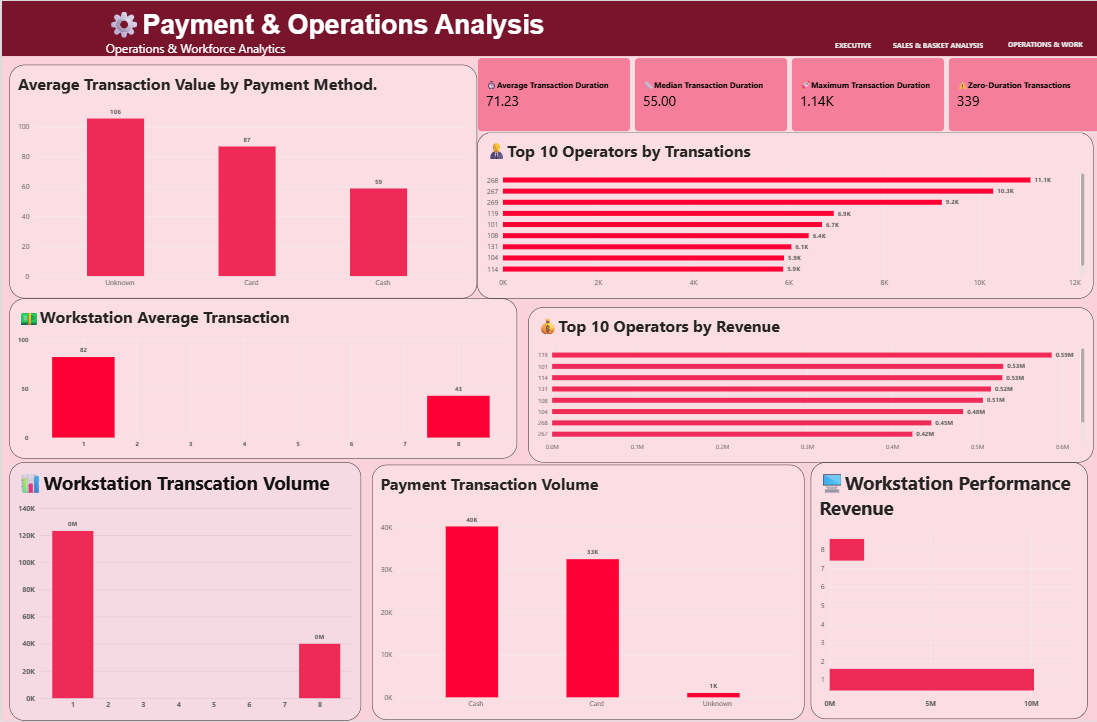

The dashboard page shown, as its layout file describes it:
{"tool":"powerbi","page":{"name":"Page 3","canvas":[2200,1440],"ordinal":2},"visuals":[{"type":"shape","box":[0,0,2600,110.1],"z":0},{"type":"clusteredColumnChart","title":"📊Workstation Transcation Volume","fields":{"Category":["analytics fact_transactions.workstation_group_id"],"Y":["analytics fact_transactions.Total Transactions"]},"box":[15,922.5,703.3,516.7],"z":1000},{"type":"textbox","box":[207.1,7.4,1200.8,120.8],"z":2000},{"type":"clusteredBarChart","title":"👨💼Top 10 Operators by Transations","fields":{"Category":["analytics fact_transactions.operator_id"],"Y":["analytics fact_transactions.Total Transactions"]},"box":[950,262.5,1232.5,332.5],"z":3000},{"type":"clusteredBarChart","title":"💰Top 10 Operators by Revenue","fields":{"Category":["analytics fact_transactions.operator_id"],"Y":["analytics fact_transactions.Total Revenue"]},"box":[1052.5,612.5,1130,310],"z":4000},{"type":"clusteredColumnChart","title":"💵Workstation Average Transaction","fields":{"Category":["analytics fact_transactions.workstation_group_id"],"Y":["analytics fact_transactions.Average Transaction Value"]},"box":[15,595,1015,320],"z":5000},{"type":"clusteredBarChart","title":"🖥️Workstation Performance Revenue","fields":{"Category":["analytics fact_transactions.workstation_group_id"],"Y":["analytics fact_transactions.Total Revenue"]},"box":[1616.7,923.3,553.3,513.3],"z":6000},{"type":"cardVisual","fields":{"Data":["analytics fact_transactions.Average Transaction Duration","analytics fact_transactions.Median Transaction Duration","analytics fact_transactions.Maximum Transaction Duration","analytics fact_transactions.Zero-Duration Transactions"]},"box":[950,112.5,1250,150],"z":8000},{"type":"clusteredColumnChart","title":"Payment Transaction Volume","fields":{"Category":["analytics fact_transactions.payment_method"],"Y":["analytics fact_transactions.Total Transactions"]},"box":[740,927.5,865,510],"z":10000},{"type":"clusteredColumnChart","title":"Average Transaction Value by Payment Method.","fields":{"Category":["analytics v_payment_performance.payment_method"],"Y":["Avg(analytics v_payment_performance.average_transaction_value)"]},"box":[15,127.5,935,467.5],"z":11000},{"type":"actionButton","title":"Analyze","box":[1646.2,65,110,45.5],"z":12000},{"type":"actionButton","title":"Analyze","box":[1762.5,65,219.1,45.5],"z":13000},{"type":"actionButton","title":"Analyze","box":[1981.2,65,208.8,45],"z":14000}]}

Visuals, with their boxes in screenshot pixels (x1, y1, x2, y2), scaled from the page's 2200x1440 canvas onto the 1097x722 screenshot:
shape: [left=0, top=0, right=1096, bottom=55]
"📊Workstation Transcation Volume" clusteredColumnChart: [left=7, top=463, right=358, bottom=721]
textbox: [left=103, top=4, right=702, bottom=64]
"👨💼Top 10 Operators by Transations" clusteredBarChart: [left=474, top=132, right=1088, bottom=298]
"💰Top 10 Operators by Revenue" clusteredBarChart: [left=525, top=307, right=1088, bottom=463]
"💵Workstation Average Transaction" clusteredColumnChart: [left=7, top=298, right=514, bottom=459]
"🖥️Workstation Performance Revenue" clusteredBarChart: [left=806, top=463, right=1082, bottom=720]
cardVisual - analytics fact_transactions.Average Transaction Duration x analytics fact_transactions.Median Transaction Duration: [left=474, top=56, right=1096, bottom=132]
"Payment Transaction Volume" clusteredColumnChart: [left=369, top=465, right=800, bottom=721]
"Average Transaction Value by Payment Method." clusteredColumnChart: [left=7, top=64, right=474, bottom=298]
"Analyze" actionButton: [left=821, top=33, right=876, bottom=55]
"Analyze" actionButton: [left=879, top=33, right=988, bottom=55]
"Analyze" actionButton: [left=988, top=33, right=1092, bottom=55]
